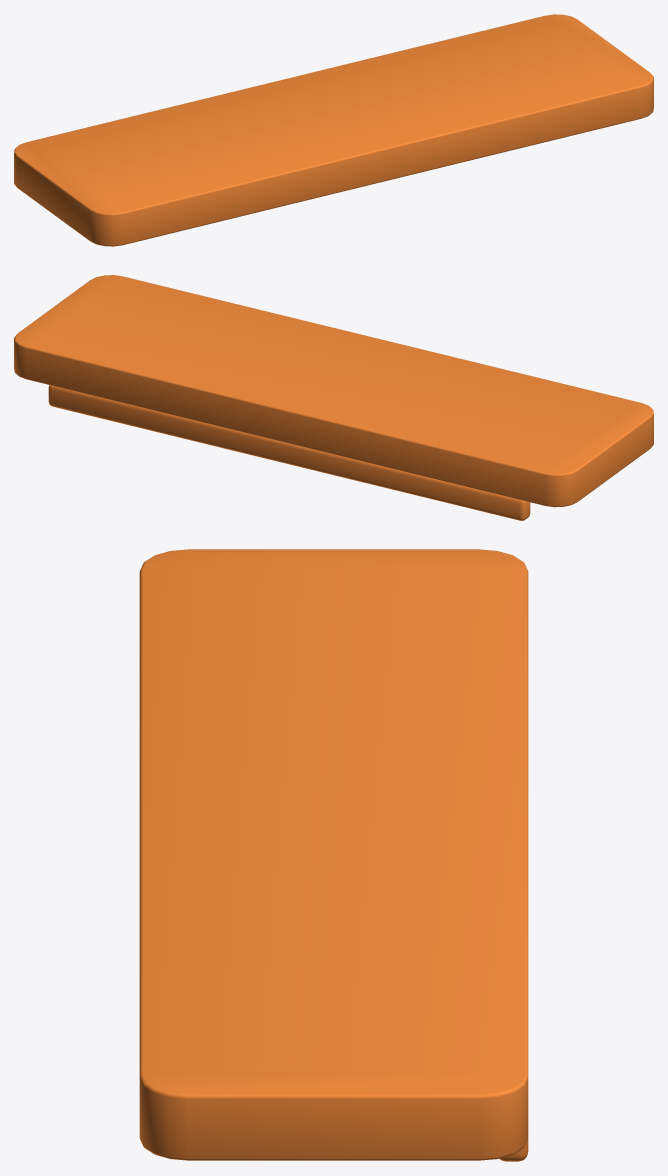
File: prateleira_cozinha_moderna.glb
The picture shows the model from 3 angles, top to bottom: view 1: azimuth 30°, elevation 25°; view 2: azimuth 150°, elevation 25°; view 3: azimuth 270°, elevation 25°; orthographic projection. The views are drawn at different scales.
Visible parts, largest first — view 1: prateleira_cozinha_moderna; view 2: prateleira_cozinha_moderna; view 3: prateleira_cozinha_moderna.
Part boxes in pixels (bbox=[...]): prateleira_cozinha_moderna: bbox=[14, 14, 653, 246]; prateleira_cozinha_moderna: bbox=[14, 275, 653, 520]; prateleira_cozinha_moderna: bbox=[139, 549, 528, 1161].
Bounding box in the file's own units: 0.8 × 0.075 × 0.24.
Materials: 1 (1 with a texture image).
